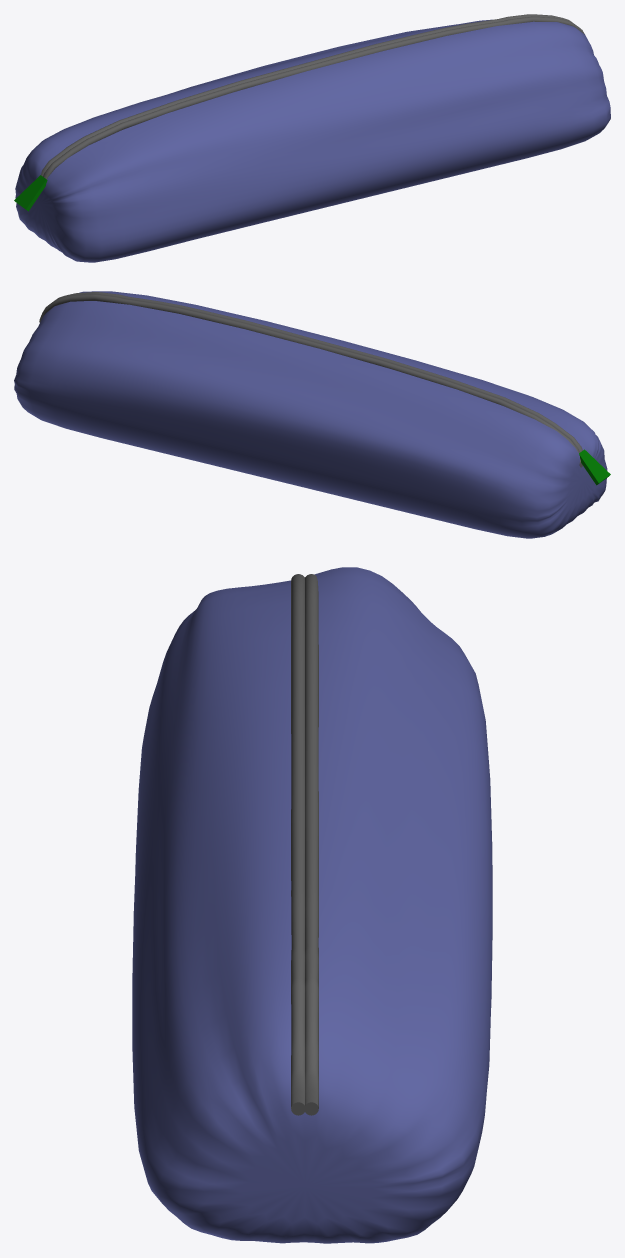
The model's file is PencilCase.fbx.
The picture shows the model from 3 angles, top to bottom: view 1: azimuth 30°, elevation 25°; view 2: azimuth 150°, elevation 25°; view 3: azimuth 270°, elevation 25°; orthographic projection. The views are drawn at different scales.
Parts seen in each view (by area): view 1: pCylinder1, pCylinder2, pasted__pCylinder2, pCube1; view 2: pCylinder1, pasted__pCylinder2, pCylinder2, pCube1; view 3: pCylinder1, pCylinder2, pasted__pCylinder2.
Boxes of the visible parts, box(x1,y1,x2,y2) form: pCylinder1: box(15, 19, 610, 262); pCylinder2: box(43, 16, 584, 179); pasted__pCylinder2: box(41, 14, 571, 176); pCube1: box(14, 175, 47, 211); pCylinder1: box(14, 291, 607, 538); pasted__pCylinder2: box(39, 294, 582, 467); pCylinder2: box(56, 292, 582, 452); pCube1: box(579, 449, 610, 485); pCylinder1: box(132, 567, 492, 1243); pCylinder2: box(291, 574, 305, 1115); pasted__pCylinder2: box(304, 574, 318, 1115).
Size of the model in its own units: 8.11 by 1.73 by 2.26.
